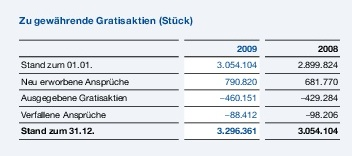table: (0, 0, 352, 156)
